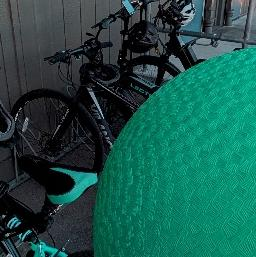algae: (107, 39, 256, 257)
